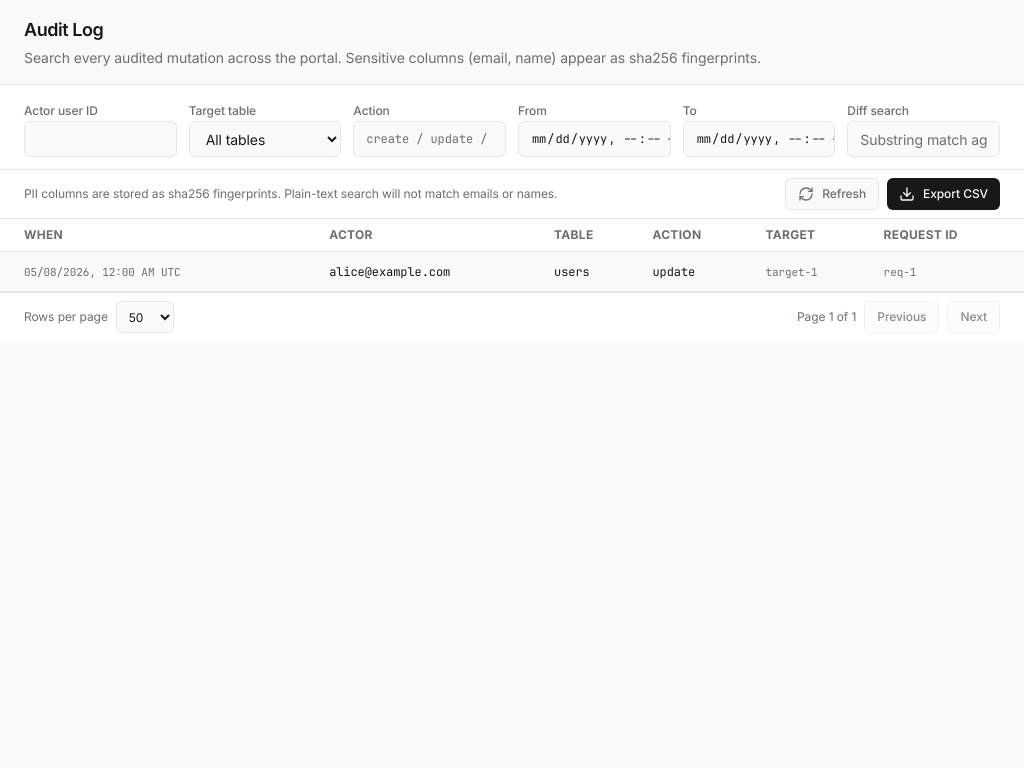
Test case: AdminAuditPage › opens the drawer on row click
This screenshot has width=1024, height=768.
Click the row with test id "admin-audit-row".
click(512, 272)  # box [0, 252, 1023, 292]
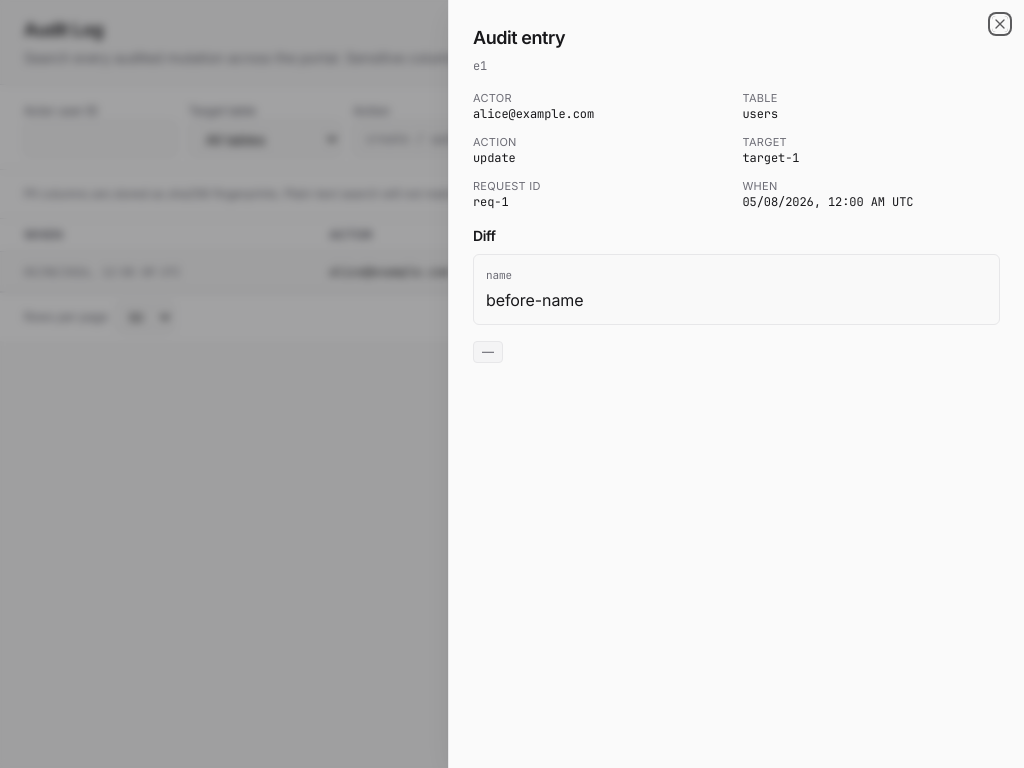
Result: the dialog with test id "admin-audit-drawer" is shown at [448, 0, 1023, 767]
Result: the text with test id "admin-audit-drawer-target-table" reads "users" at [742, 106, 778, 122]
